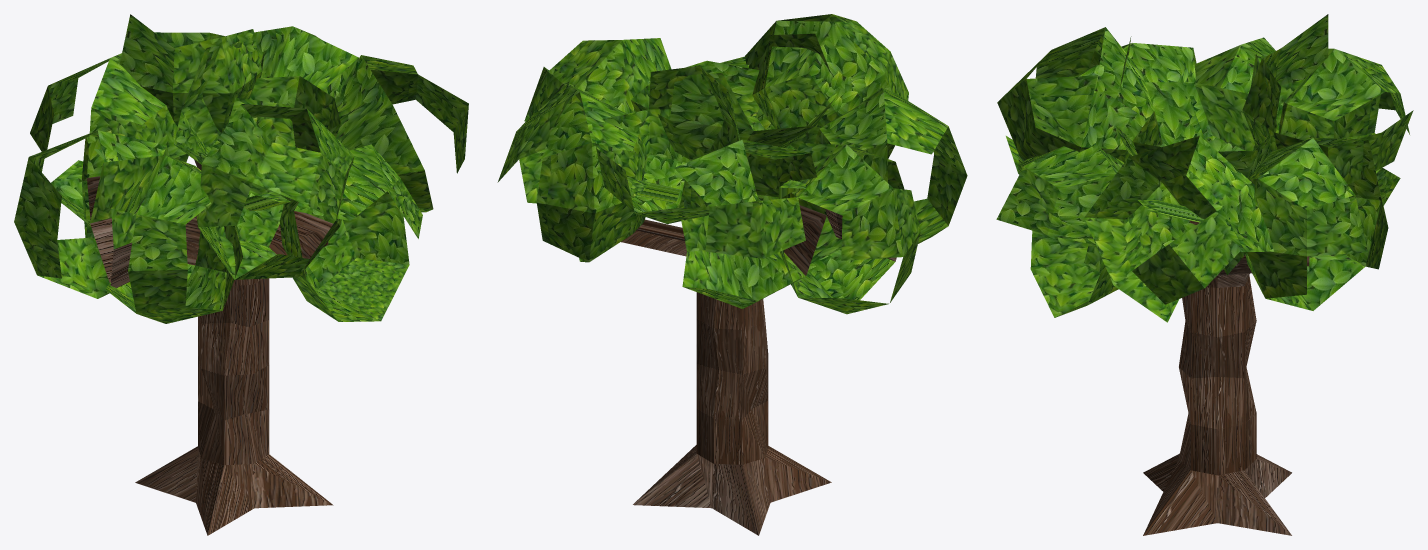
File: TreeDying.fbx
The picture shows the model from 3 angles, left to right: view 1: azimuth 30°, elevation 25°; view 2: azimuth 150°, elevation 25°; view 3: azimuth 270°, elevation 25°; orthographic projection. The views are drawn at different scales.
Parts seen in each view (by area): view 1: TreeOakDying; view 2: TreeOakDying; view 3: TreeOakDying.
Boxes of the visible parts, box(x1,y1,x2,y2) form: TreeOakDying: box(14, 14, 468, 535); TreeOakDying: box(497, 14, 967, 535); TreeOakDying: box(996, 14, 1413, 535).
Size of the model in its own units: 352 by 373 by 303.
Materials: 2 (2 with a texture image).
